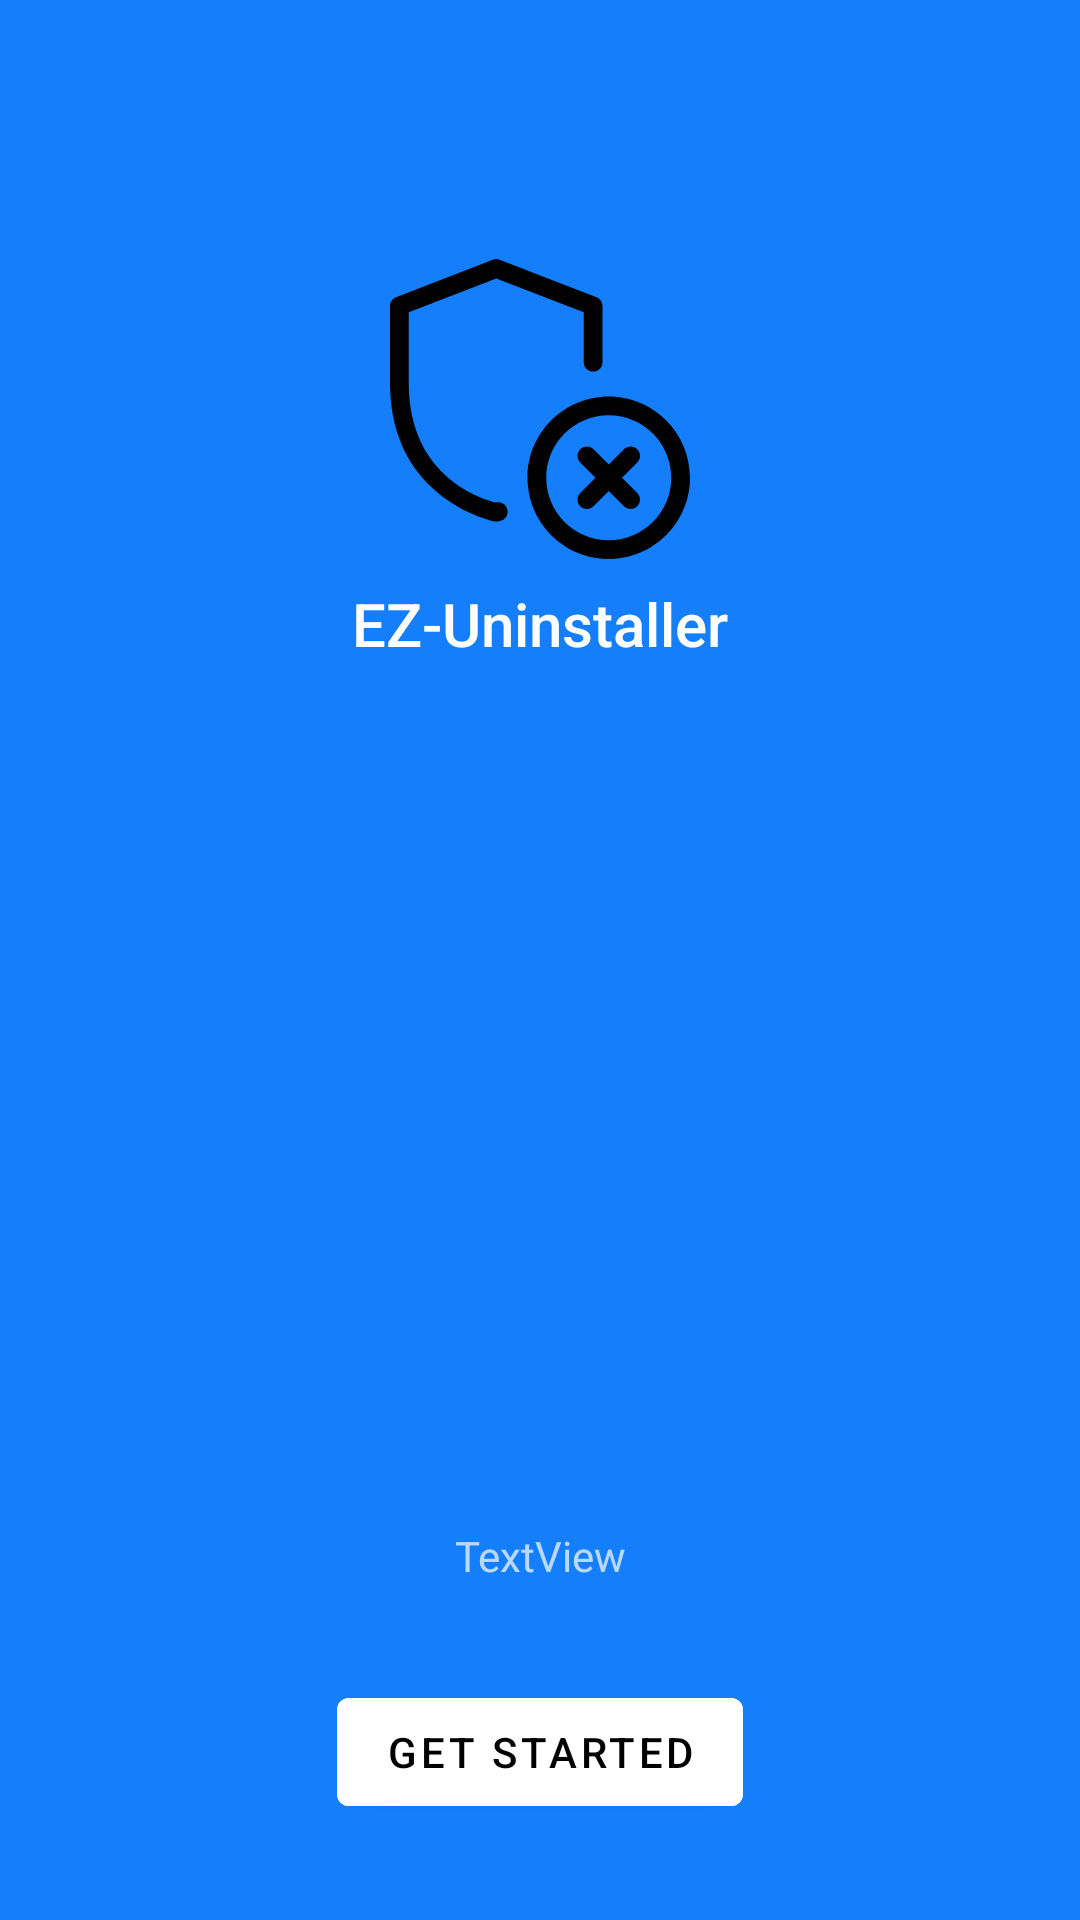

Named icons in this screenshot (1080×1920) and their bounding boxes, (left=x1, top=y1, right=x2, bottom=y2):
shield: (left=390, top=259, right=690, bottom=559)
